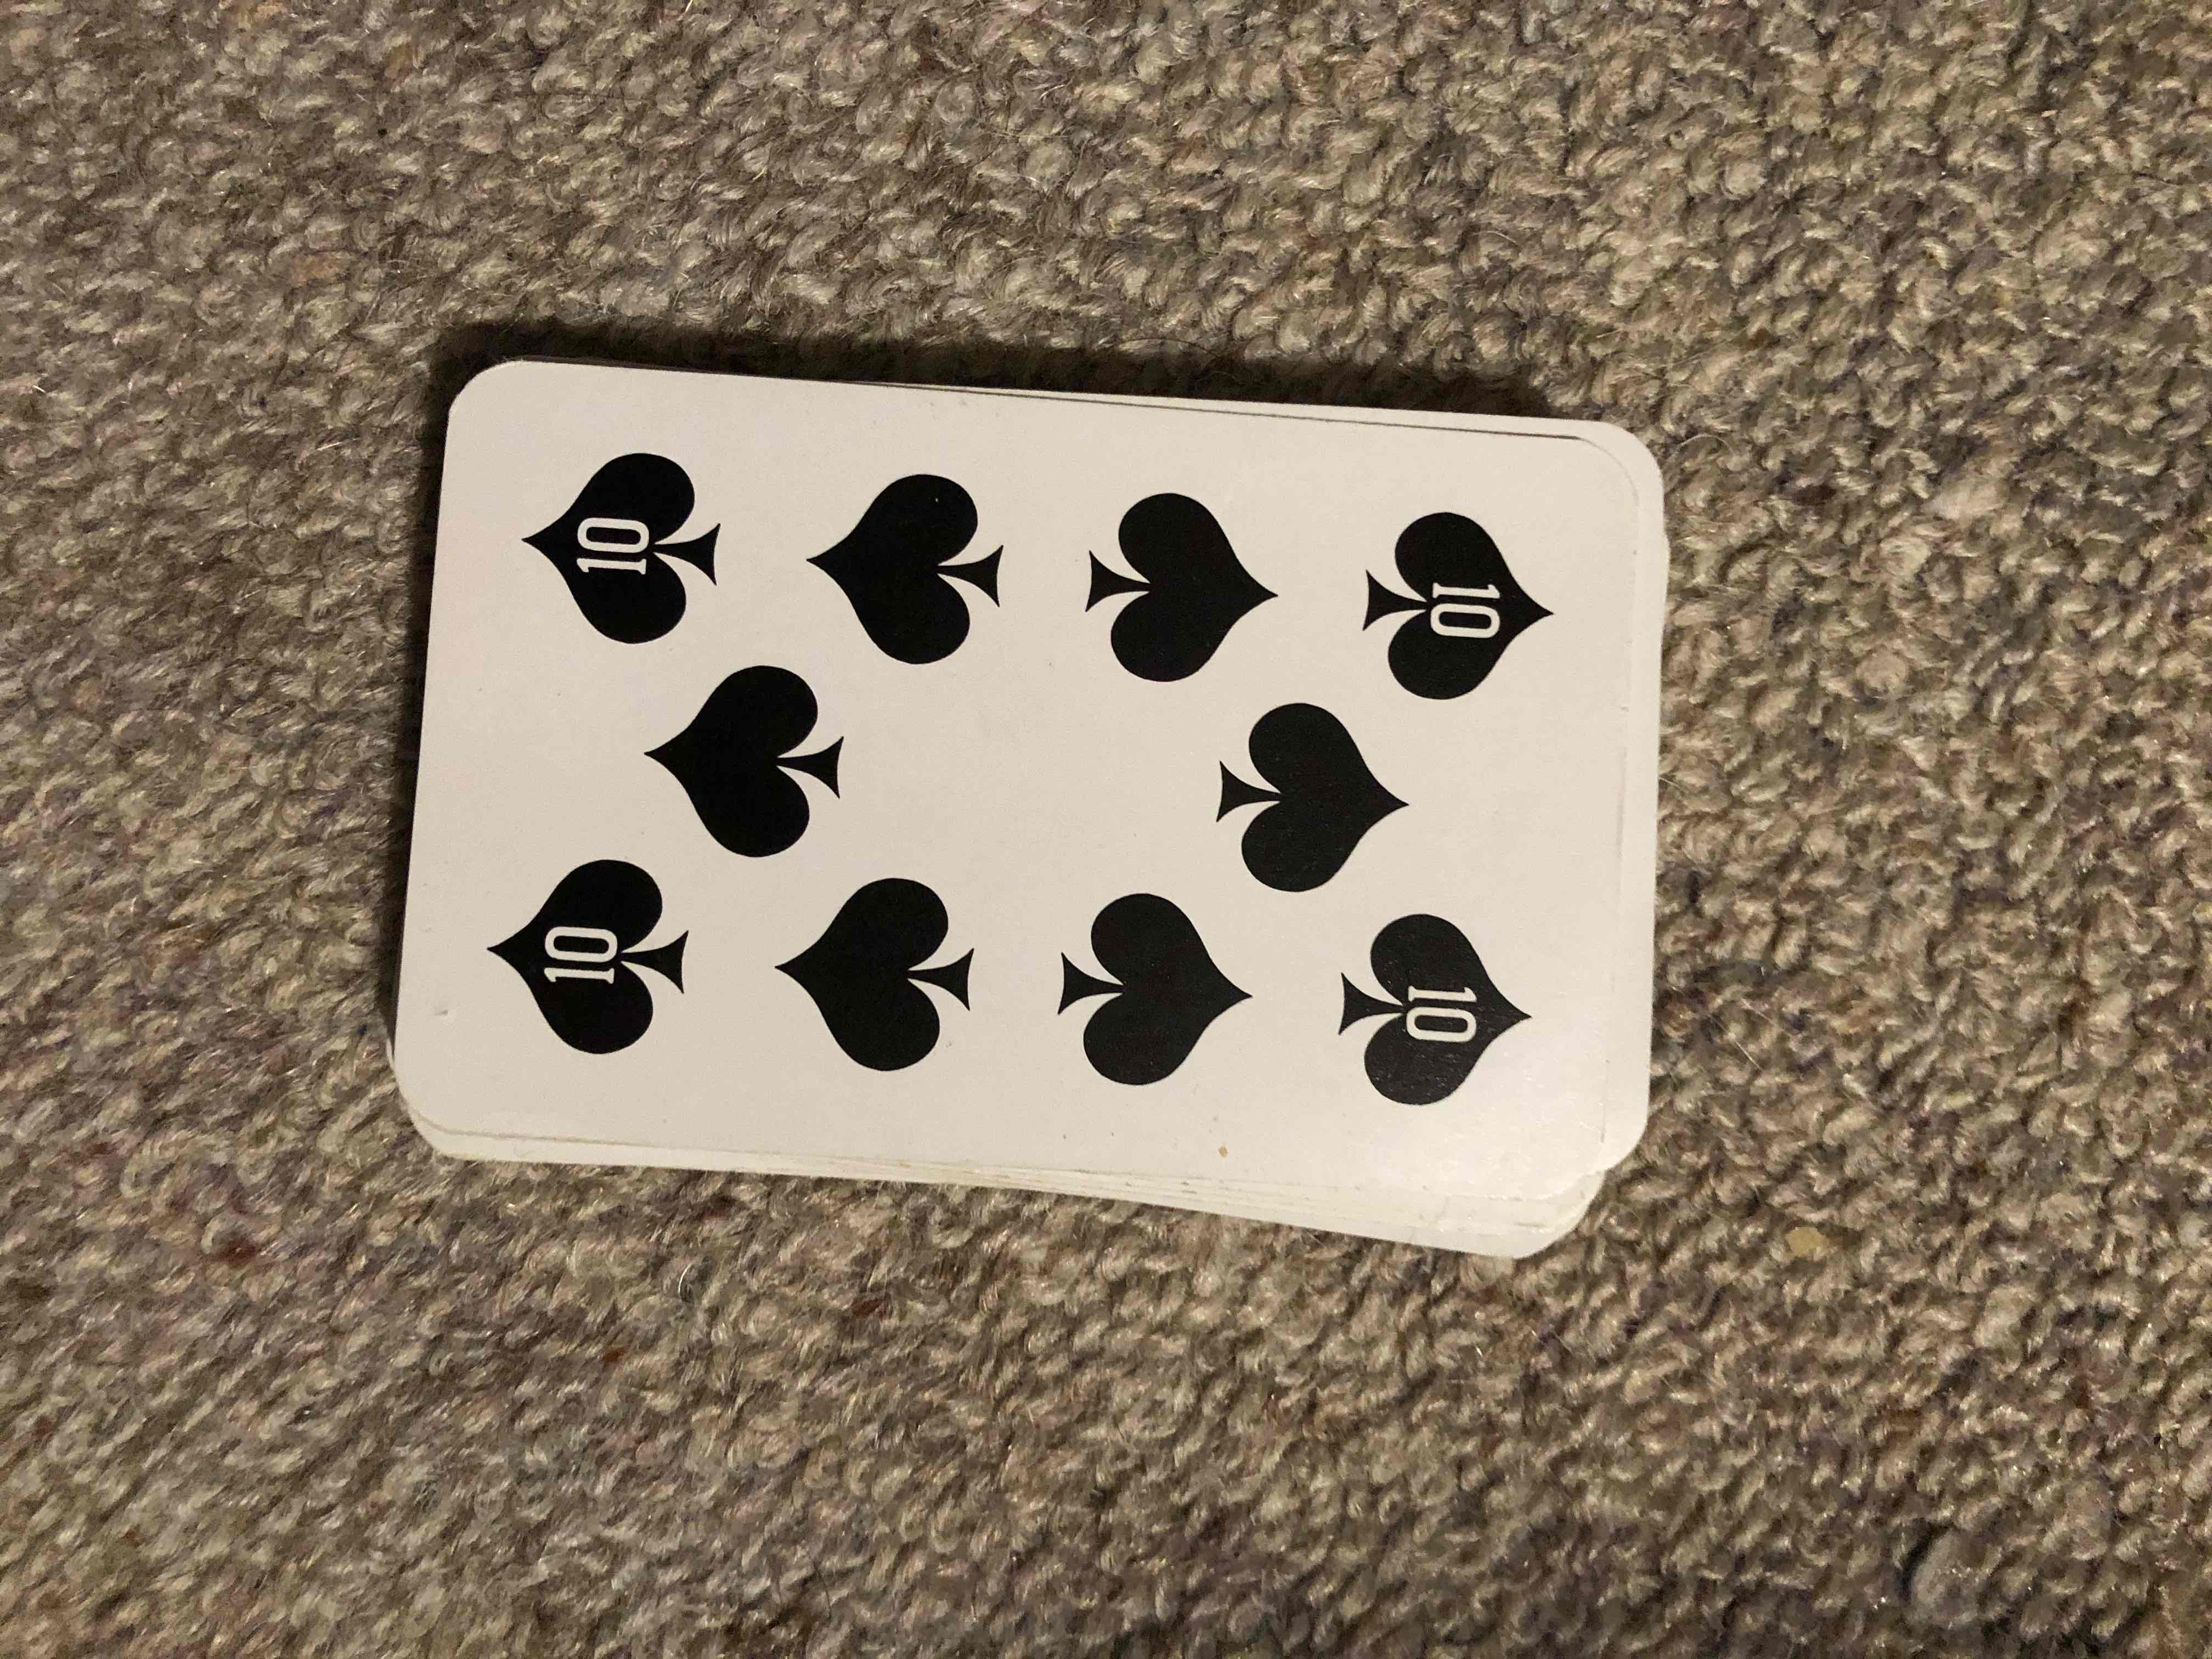spades10: (428, 349, 1620, 1195)
